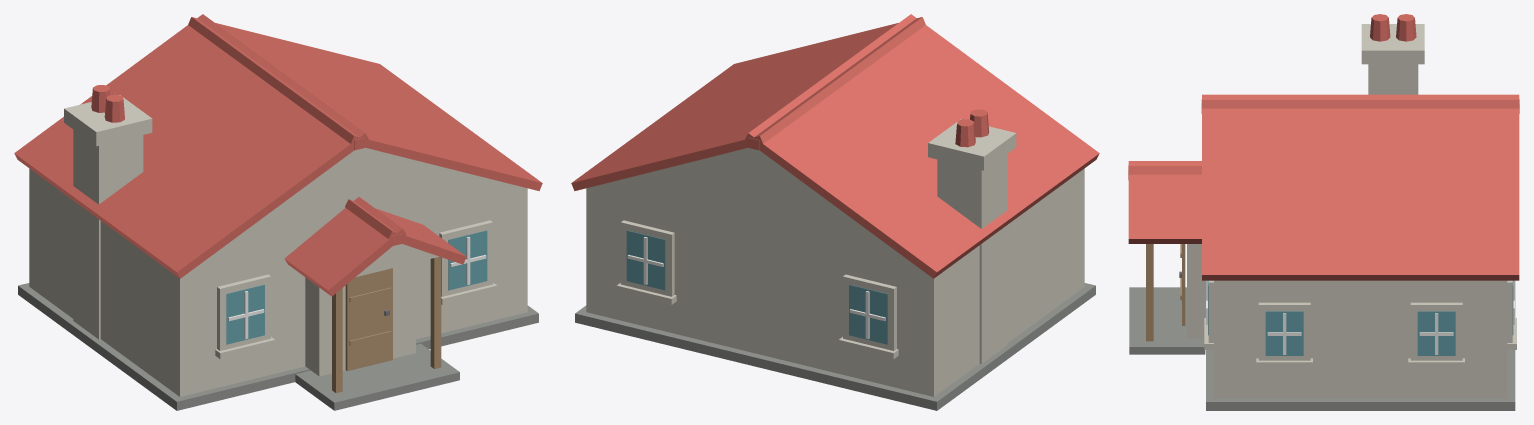
The model's file is lighthouse-and-rocky-coast-keepers-cottage-849682a8.glb.
3 renders of one model, left to right at view 1: azimuth 30°, elevation 25°; view 2: azimuth 150°, elevation 25°; view 3: azimuth 270°, elevation 25°, orthographic. The views are drawn at different scales.
Parts seen in each view (by area): view 1: keepers-cottage, door/timber; view 2: keepers-cottage; view 3: keepers-cottage, door/timber.
Boxes of the visible parts, x1,y1,x2,y2 form: keepers-cottage: [14, 14, 542, 410]; door/timber: [345, 268, 392, 371]; keepers-cottage: [571, 14, 1099, 410]; keepers-cottage: [1128, 14, 1519, 410]; door/timber: [1180, 244, 1185, 325].
Bounding box in the file's own units: 7.58 × 4.76 × 7.21.
